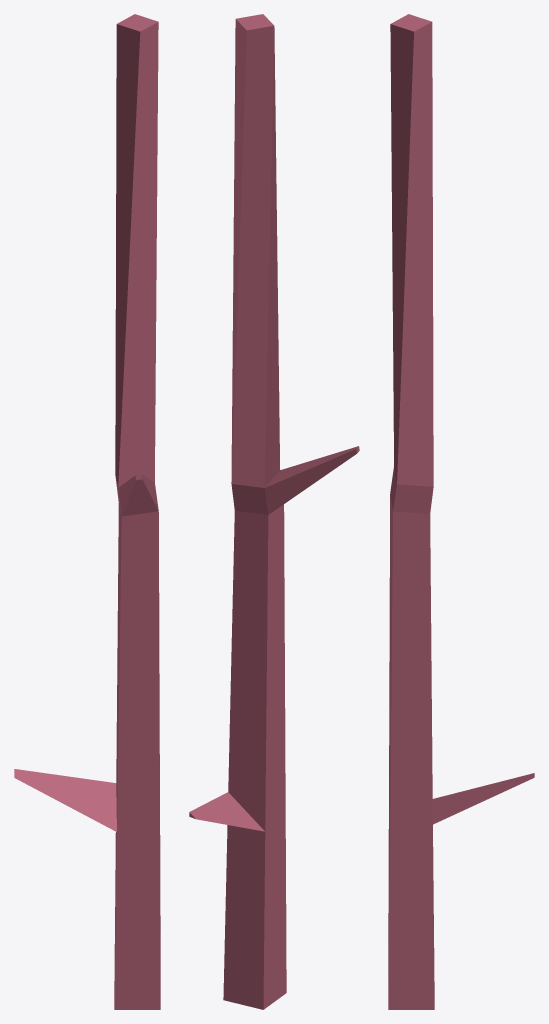
File: back_tree_2.fbx
The picture shows the model from 3 angles, left to right: view 1: azimuth 90°, elevation 25°; view 2: azimuth 150°, elevation 25°; view 3: azimuth 270°, elevation 25°; orthographic projection.
Visible parts, largest first — view 1: Cube.132; view 2: Cube.132; view 3: Cube.132.
Part boxes in pixels (x1,y1,x2,y2): Cube.132: [14, 14, 160, 1009]; Cube.132: [189, 14, 359, 1009]; Cube.132: [388, 14, 534, 1009].
Bounding box in the file's own units: 311 × 2357 × 320.
